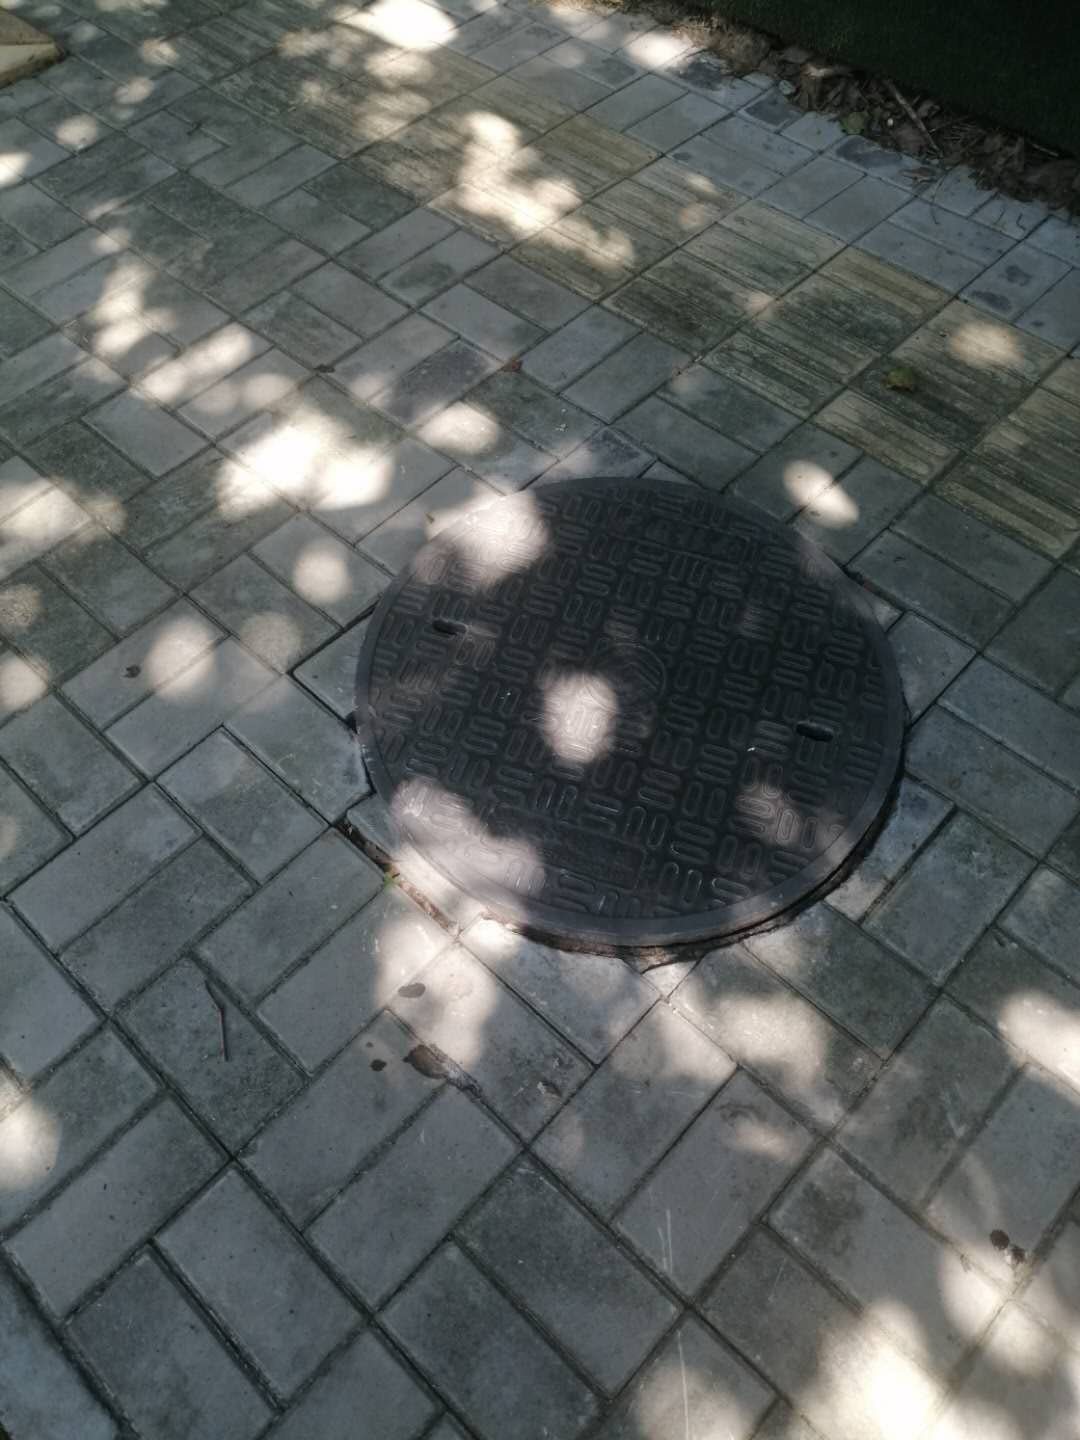uncovered: (304, 433, 978, 948)
